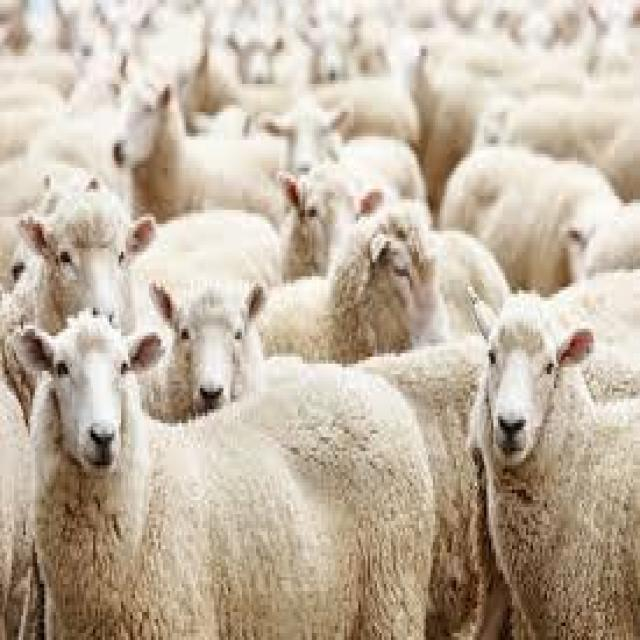Sheep: (9, 315, 452, 640), (459, 305, 640, 627)
